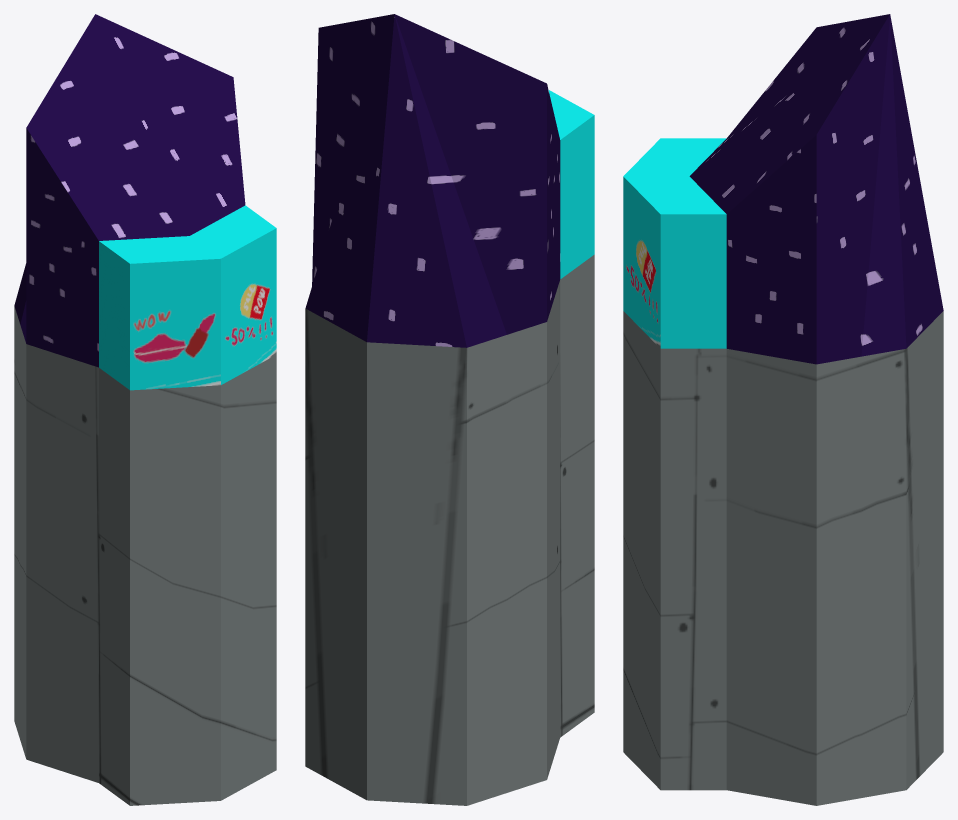
The model's file is Building2.fbx.
3 renders of one model, left to right at view 1: azimuth 30°, elevation 25°; view 2: azimuth 150°, elevation 25°; view 3: azimuth 270°, elevation 25°, orthographic. The views are drawn at different scales.
Visible parts, largest first — view 1: Cylinder; view 2: Cylinder; view 3: Cylinder.
Boxes of the visible parts, x1,y1,x2,y2 form: Cylinder: (14,14,276,805); Cylinder: (305,14,594,805); Cylinder: (623,14,943,805).
Size of the model in its own units: 400 by 1282 by 504.
1 material, 1 textured.
